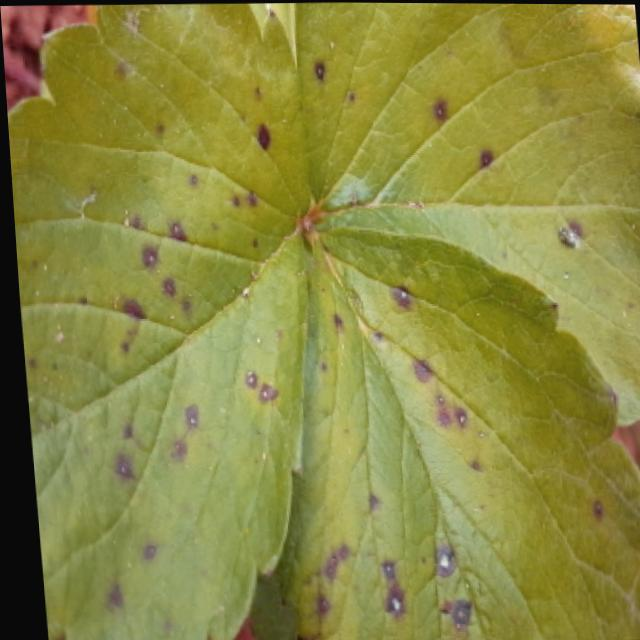Leaf Spot: (6, 2, 311, 640), (269, 219, 640, 640), (294, 2, 640, 428)
